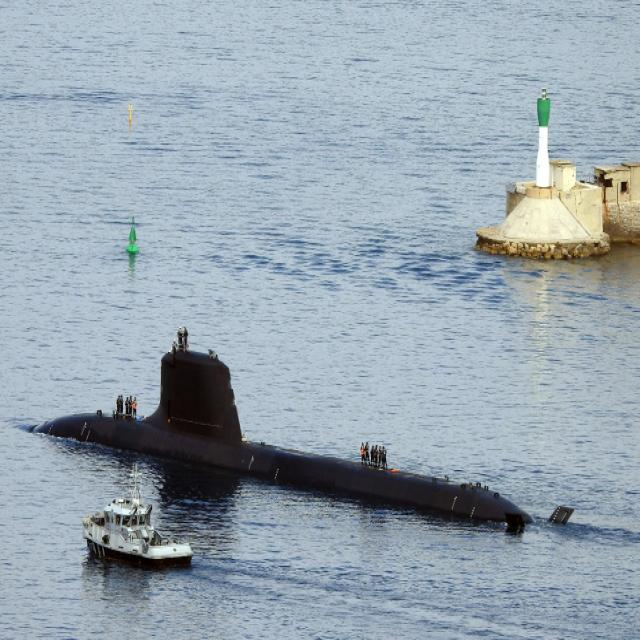submarine: (28, 348, 574, 543)
